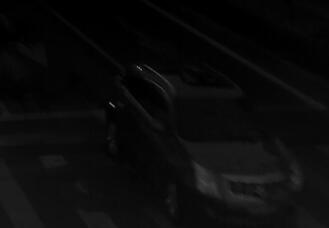car: (100, 56, 307, 221)
